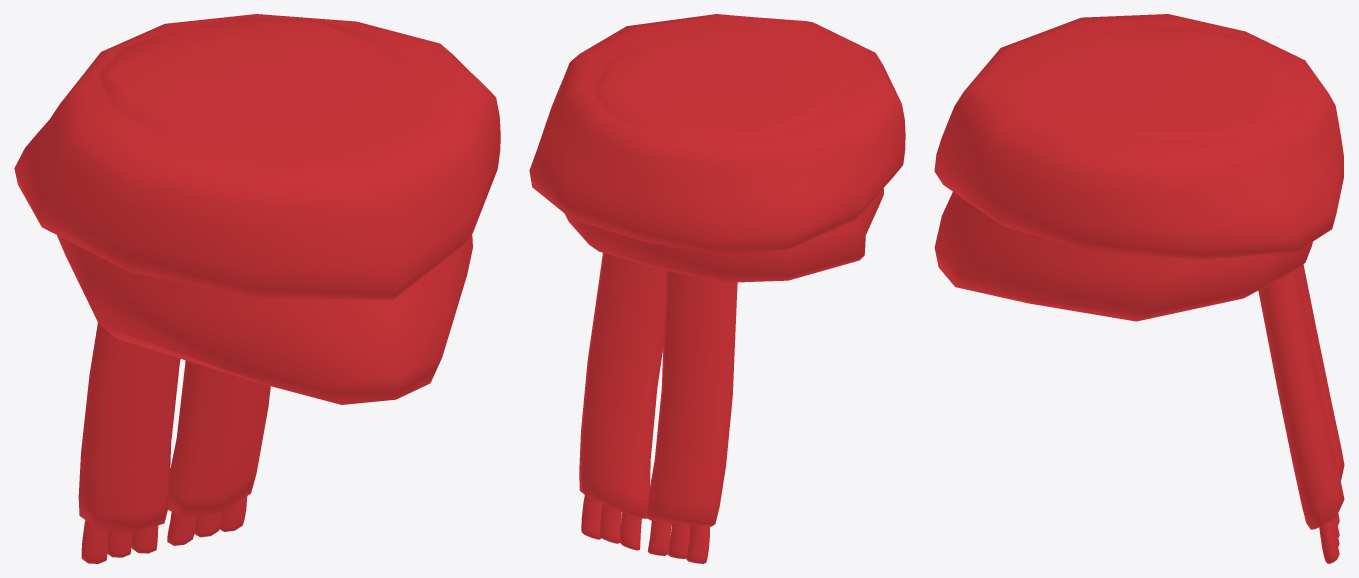
File: accessory-scarf.glb
3 renders of one model, left to right at view 1: azimuth 30°, elevation 25°; view 2: azimuth 150°, elevation 25°; view 3: azimuth 270°, elevation 25°, orthographic. The views are drawn at different scales.
Parts seen in each view (by area): view 1: accessory__Cube__0; view 2: accessory__Cube__0; view 3: accessory__Cube__0.
Boxes of the visible parts, <box> form: accessory__Cube__0: <box>14,14,500,563</box>; accessory__Cube__0: <box>529,14,905,563</box>; accessory__Cube__0: <box>934,14,1344,563</box>.
Bounding box in the file's own units: 0.4888 × 0.6114 × 0.4995.
